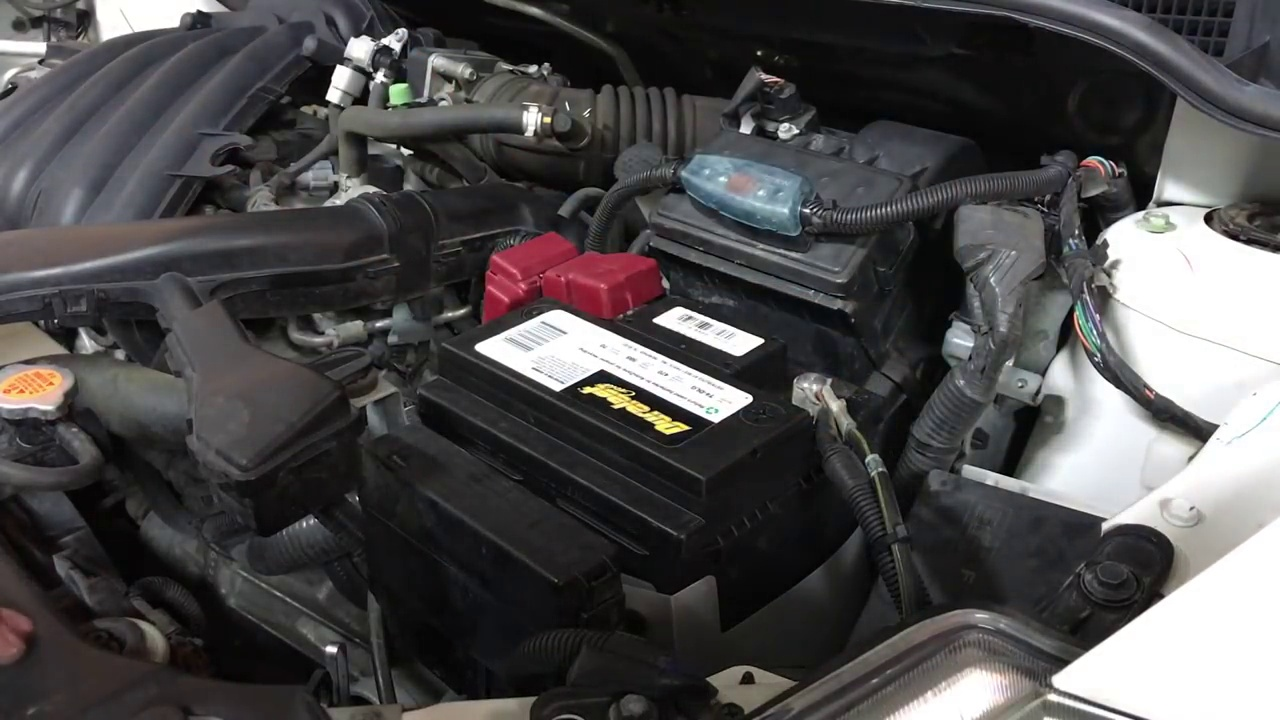battery: (446, 274, 867, 479)
neg_connected: (769, 351, 874, 468)
pos_connected: (462, 230, 663, 336)
